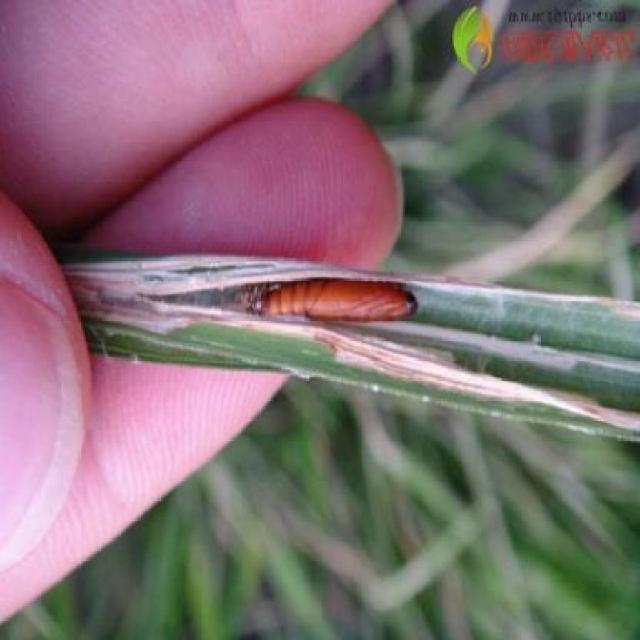leaf-folder: (239, 274, 430, 337), (248, 232, 266, 268)
